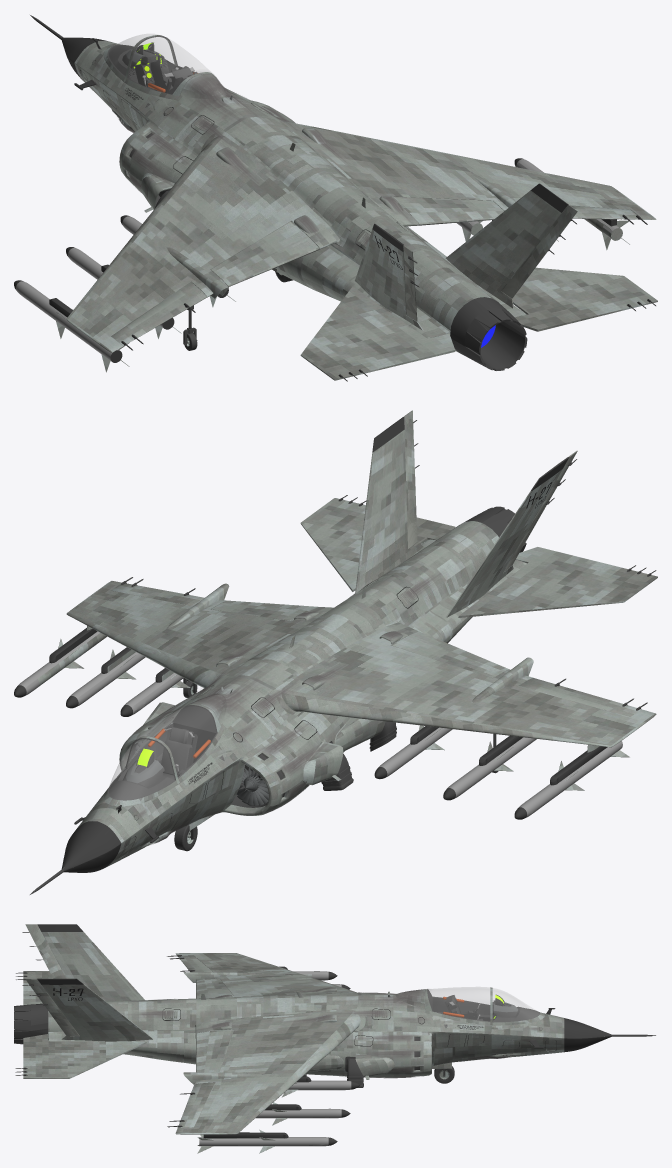
The model's file is jetwithenginecopy.gltf.
The picture shows the model from 3 angles, top to bottom: view 1: azimuth 30°, elevation 25°; view 2: azimuth 150°, elevation 25°; view 3: azimuth 270°, elevation 25°; orthographic projection. The views are drawn at different scales.
Visible parts, largest first — view 1: HydraHull, HydraSteaks; view 2: HydraHull, HydraSteaks; view 3: HydraHull, HydraSteaks.
Boxes of the visible parts, x1=… form: HydraHull: x1=14, y1=15, x2=657, y2=381; HydraSteaks: x1=91, y1=60, x2=440, y2=255; HydraHull: x1=14, y1=410, x2=657, y2=894; HydraSteaks: x1=94, y1=571, x2=443, y2=843; HydraHull: x1=14, y1=924, x2=655, y2=1153; HydraSteaks: x1=125, y1=987, x2=542, y2=1078.
Size of what is drawn, in the model's own units: 11.22 by 3.79 by 16.87.
13 materials, 3 textured.
